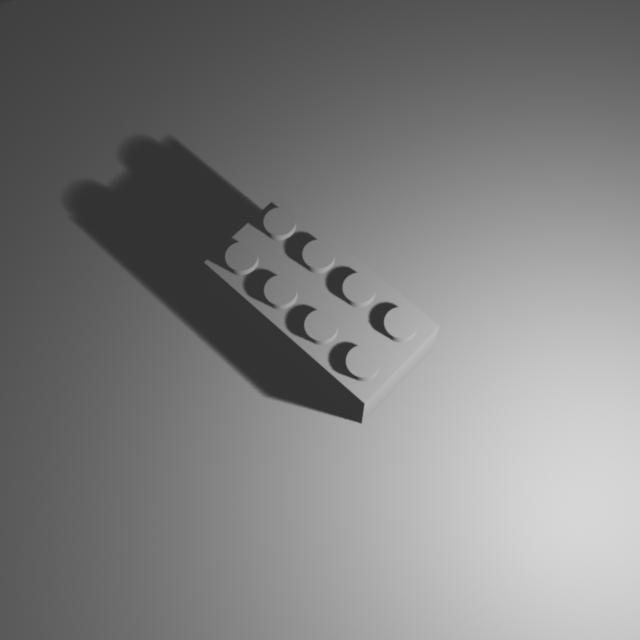lego_2x4: (203, 189, 441, 424)
